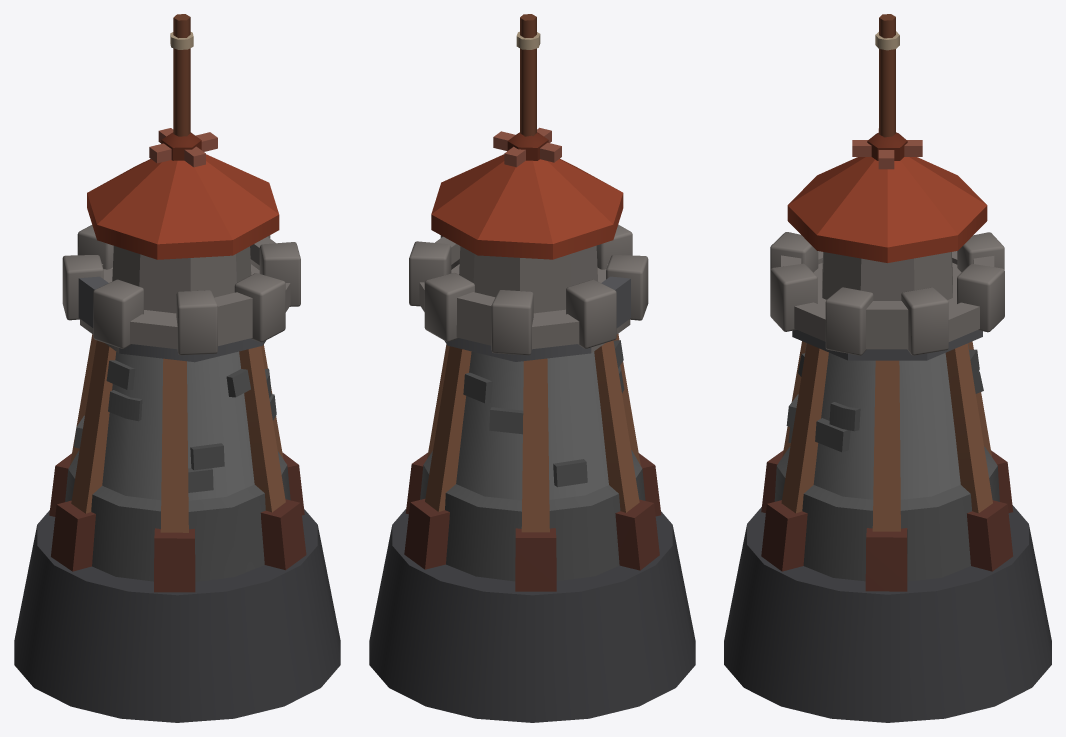
The model's file is Tower.fbx.
The picture shows the model from 3 angles, left to right: view 1: azimuth 30°, elevation 25°; view 2: azimuth 150°, elevation 25°; view 3: azimuth 270°, elevation 25°; orthographic projection.
Parts seen in each view (by area): view 1: Tower; view 2: Tower; view 3: Tower.
Part boxes in pixels (box(x1,y1,x2,y2)): Tower: box(14, 14, 340, 722); Tower: box(369, 14, 695, 722); Tower: box(724, 14, 1051, 722).
Bounding box in the file's own units: 519 × 1096 × 511.
